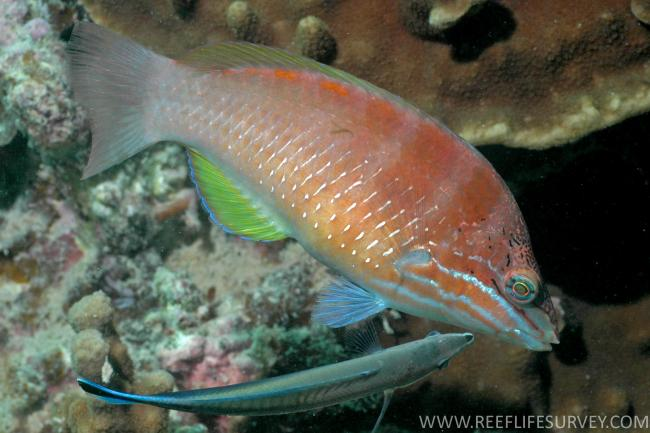fish: (66, 21, 562, 353), (75, 330, 475, 417)
